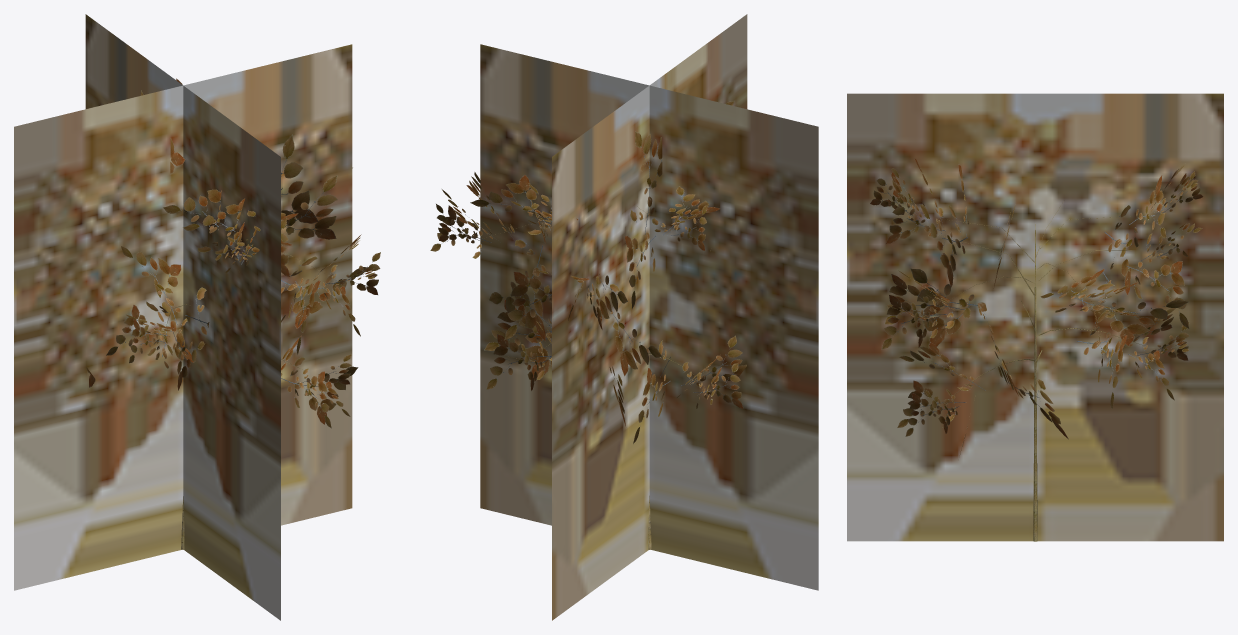
The model's file is Shrub1-3C.fbx.
3 renders of one model, left to right at view 1: azimuth 30°, elevation 25°; view 2: azimuth 150°, elevation 25°; view 3: azimuth 270°, elevation 25°, orthographic. The views are drawn at different scales.
Visible parts, largest first — view 1: Billboard-Shrub1-3C, Shrub1-3C_LOD0; view 2: Billboard-Shrub1-3C, Shrub1-3C_LOD0; view 3: Billboard-Shrub1-3C, Shrub1-3C_LOD0.
Boxes of the visible parts, x1=… form: Billboard-Shrub1-3C: x1=14, y1=14, x2=352, y2=620; Shrub1-3C_LOD0: x1=86, y1=78, x2=380, y2=549; Billboard-Shrub1-3C: x1=480, y1=14, x2=818, y2=620; Shrub1-3C_LOD0: x1=430, y1=101, x2=746, y2=549; Billboard-Shrub1-3C: x1=847, y1=93, x2=1223, y2=541; Shrub1-3C_LOD0: x1=870, y1=158, x2=1203, y2=541.
Size of what is drawn, in the model's own units: 233 by 289 by 220.
